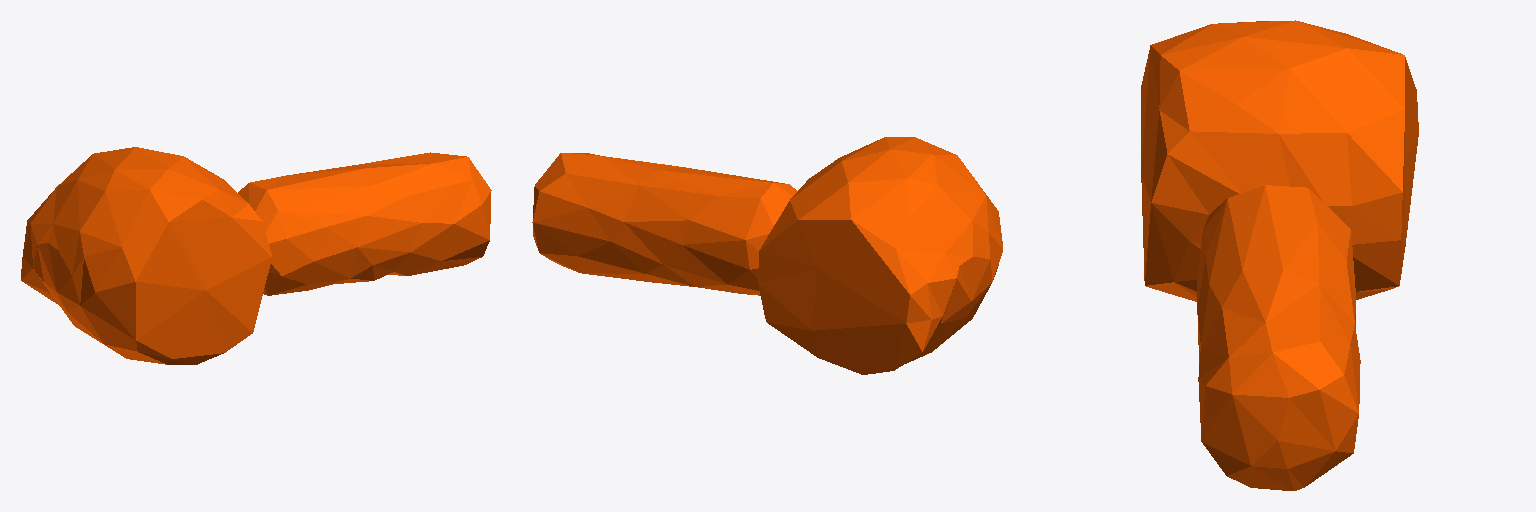
The robot description file, URDF, robot "fan_small_head":
<?xml version="1.0" ?>
<robot name="fan_small_head">
   <material name="obj_color">
      <color rgba="1.0 0.423529411765 0.0392156862745 1.0"/>
   </material>
   <link name="top">
      <inertial>
         <origin rpy="9.052734034930685e-05 0.0004415461883765335 0.0004459543010114594" xyz="-0.01017339011992122 -0.001072934546302155 -0.0003984940109322385"/>
         <mass value="0.24875"/>
         <inertia ixx="9.310944335578128e-05" ixy="-1.729066760213797e-07" ixz="3.01762254052466e-05" iyy="0.0004417075901105935" iyz="8.461453454287824e-07" izz="0.0004432107962709247"/>
      </inertial>
      <visual>
         <origin rpy="0 0 0" xyz="0 0 0"/>
         <geometry>
            <mesh filename="top_watertight_tiny.stl" scale="1 1 1"/>
         </geometry>
         <material name="obj_color"/>
      </visual>
      <collision>
         <origin rpy="0 0 0" xyz="0 0 0"/>
         <geometry>
            <mesh filename="top_watertight_tiny.obj" scale="1 1 1"/>
         </geometry>
      </collision>
   </link>
   <link name="bottom">
      <inertial>
         <origin rpy="1.633333333194242e-08 1.633333333194243e-08 1.633333333357667e-08" xyz="0.3464080000000008 0.3464080000000008 0.3464080000000008"/>
         <mass value="0.0009800000000000017"/>
         <inertia ixx="1.633333333248717e-08" ixy="5.447480642029219e-19" ixz="5.447480642029219e-19" iyy="1.633333333248717e-08" iyz="5.447480642029219e-19" izz="1.633333333248717e-08"/>
      </inertial>
      <visual>
         <origin rpy="0 0 0" xyz="0 0 0"/>
         <geometry>
            <mesh filename="bottom_watertight_tiny.stl" scale="1 1 1"/>
         </geometry>
         <material name="obj_color"/>
      </visual>
   </link>
   <link name="world"/>
   <joint name="world_to_base" type="fixed">
      <origin xyz="0 0 0"/>
      <axis xyz="0 0 0"/>
      <parent link="world"/>
      <child link="bottom"/>
   </joint>
   <joint name="rotation" type="revolute">
      <origin xyz="0 0 0"/>
      <axis xyz="0 0 -1"/>
      <parent link="bottom"/>
      <child link="top"/>
      <dynamics damping="1.0" friction="1.0"/>
      <limit effort="0.1" velocity="0.1" lower="0" upper="0.001"/>
   </joint>
</robot>

--- Facts derived from the render (not from the file) ---
Views: 3 orthographic renders of the robot side by side, from view 1: azimuth 30°, elevation 25°; view 2: azimuth 150°, elevation 25°; view 3: azimuth 270°, elevation 25°.
Model fan_small_head with 3 links and 2 joints (1 revolute, 1 fixed), rooted at world, posed every joint at zero.
Visible links, largest first — view 1: top; view 2: top; view 3: top.
Boxes of the visible links, left/top/right/bottom form: top: left=21, top=147, right=491, bottom=364; top: left=532, top=137, right=1002, bottom=374; top: left=1141, top=20, right=1418, bottom=490.
Size in the robot's own frame: 0.1522 by 0.0613 by 0.065 metres.
1 mesh visuals loaded from 2 distinct referenced files (1 binary STL); not drawn: 1 (reference not matched to a file when rendering).